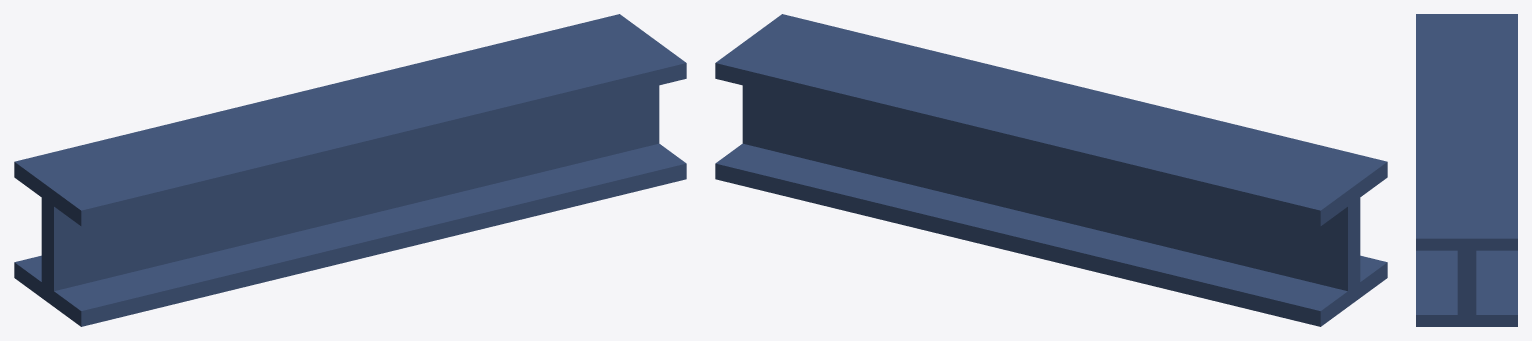
The model's file is Girder.FBX.
3 views of the same model, side by side, from view 1: azimuth 30°, elevation 25°; view 2: azimuth 150°, elevation 25°; view 3: azimuth 270°, elevation 25° (orthographic). The views are drawn at different scales.
Visible parts, largest first — view 1: Girder; view 2: Girder; view 3: Girder.
Boxes of the visible parts, <box> form: Girder: <box>14,14,686,326</box>; Girder: <box>715,14,1387,326</box>; Girder: <box>1416,14,1517,326</box>.
Bounding box in the file's own units: 155 × 28.51 × 29.72.
